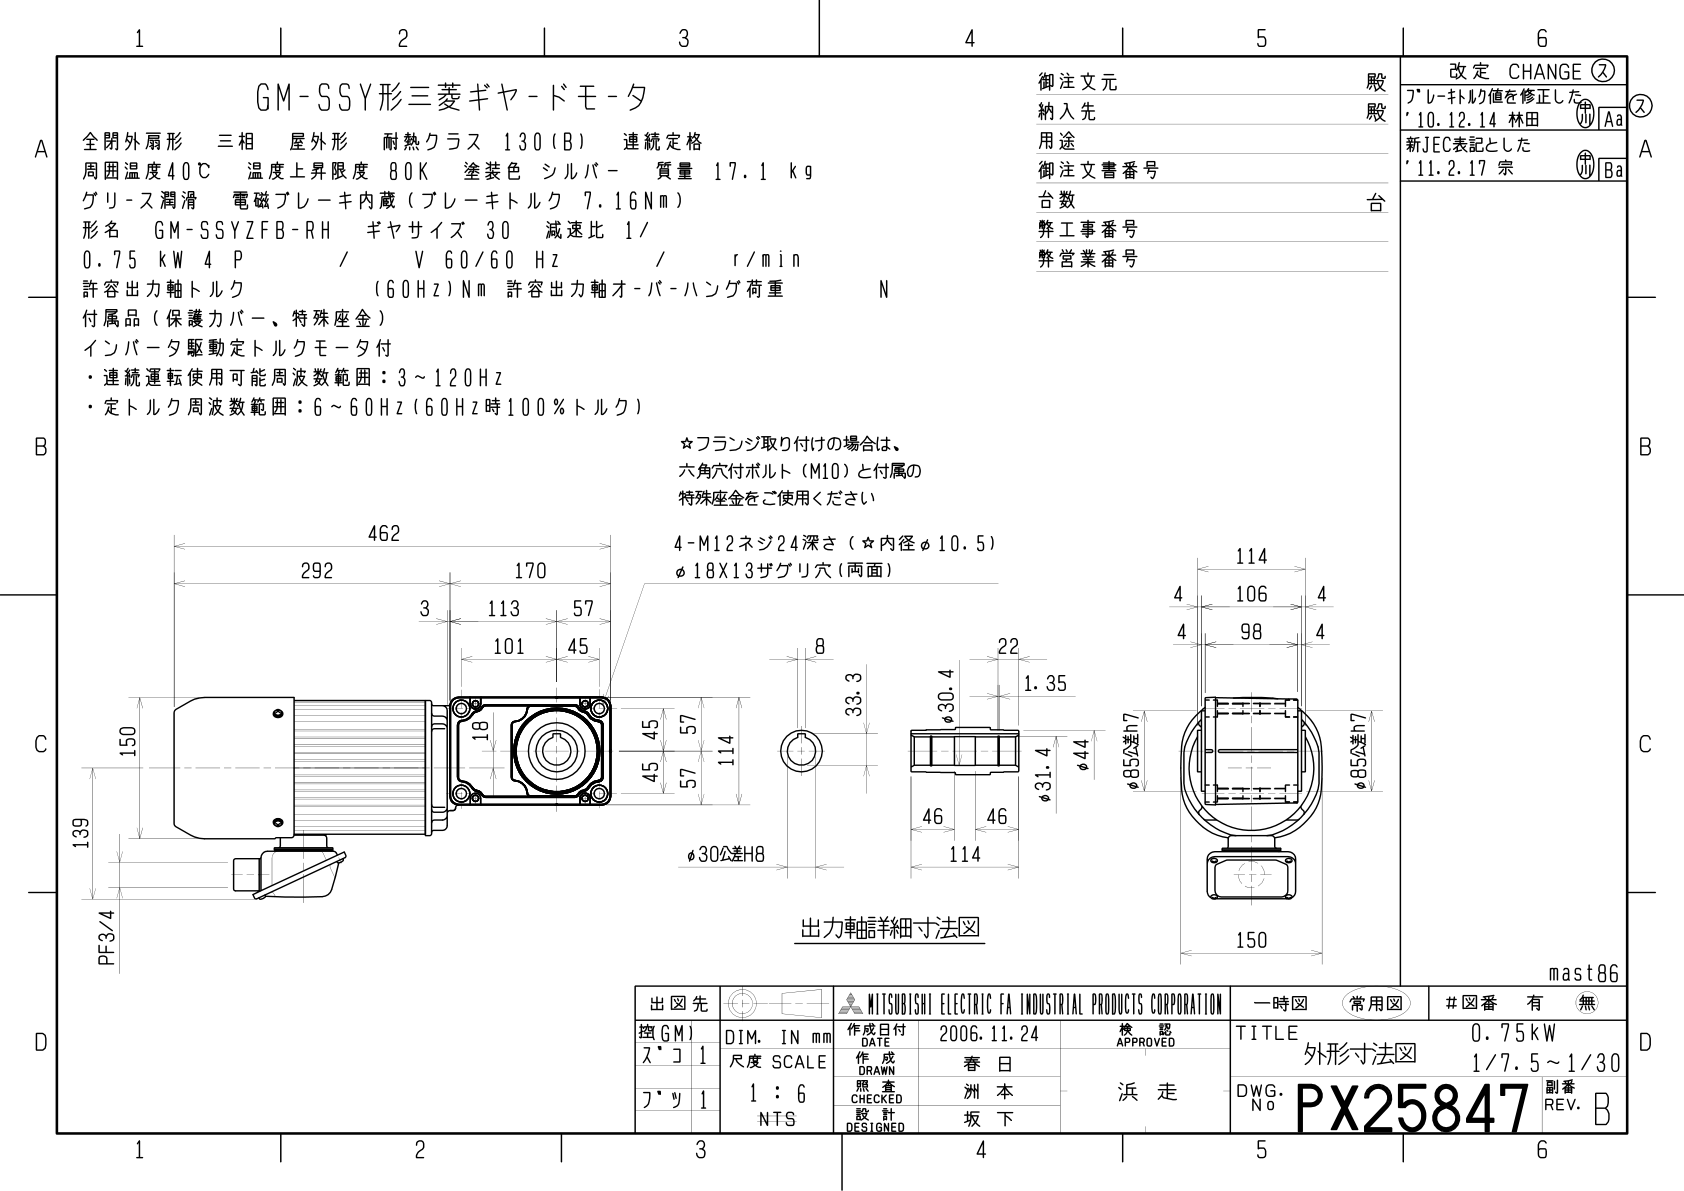GM_SSY_インバータ屋外_三相: (71, 429, 1386, 980)
